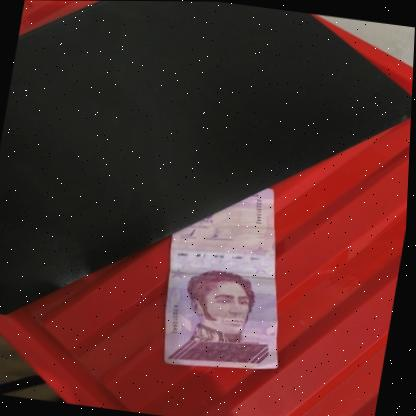one_hundred-front-vef: (152, 175, 308, 378)
